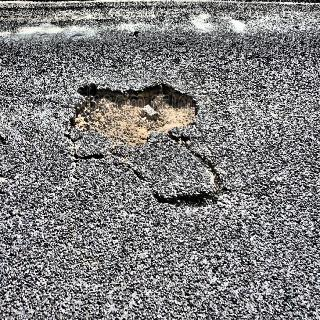pothole: (71, 77, 196, 163)
